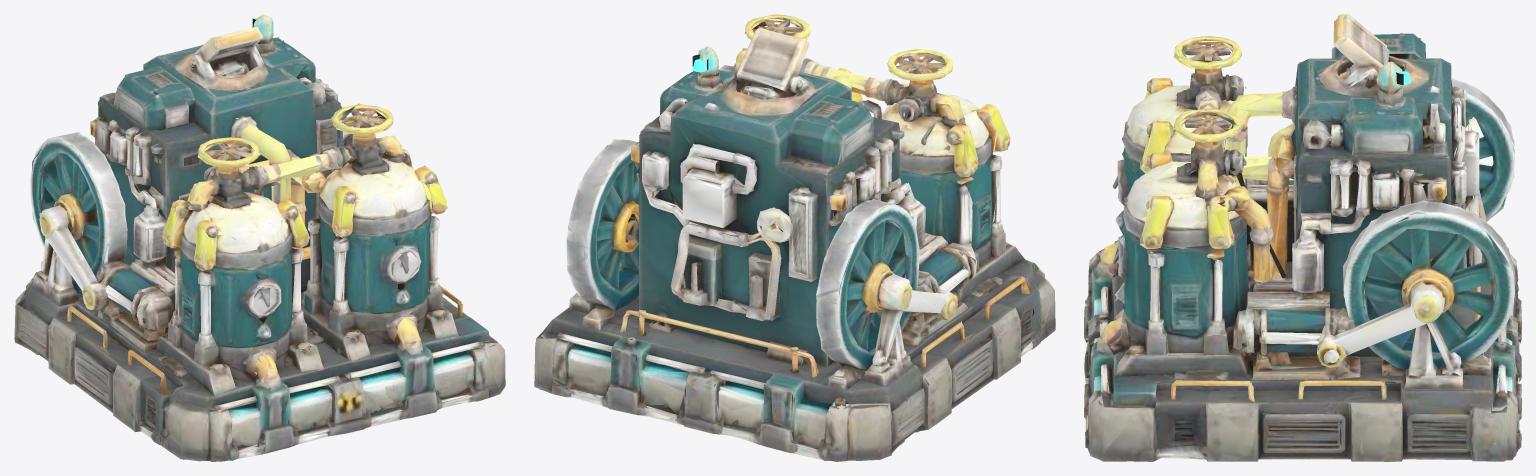
Rendered from plant.glb.
3 views of the same model, side by side, from view 1: azimuth 30°, elevation 25°; view 2: azimuth 150°, elevation 25°; view 3: azimuth 270°, elevation 25° (orthographic). The views are drawn at different scales.
Visible parts, largest first — view 1: SM_Body, SM_LOD, SM_Flywheel_Left, SM_Valve_Left, SM_Valve_Right, SM_Gauge_Left, SM_Gauge_Right, SM_Relief_Flap; view 2: SM_Body, SM_LOD, SM_Flywheel_Left, SM_Flywheel_Right, SM_Valve_Left, SM_Relief_Flap, SM_Valve_Right; view 3: SM_Body, SM_LOD, SM_Flywheel_Right, SM_Flywheel_Left, SM_Valve_Left, SM_Valve_Right, SM_Piston, SM_Relief_Flap.
Part boxes in pixels (left/top/right/bottom): SM_Body: left=14, top=15, right=504, bottom=461; SM_LOD: left=14, top=14, right=505, bottom=460; SM_Flywheel_Left: left=30, top=135, right=135, bottom=311; SM_Valve_Left: left=198, top=137, right=258, bottom=167; SM_Valve_Right: left=332, top=105, right=393, bottom=134; SM_Gauge_Left: left=242, top=268, right=281, bottom=316; SM_Gauge_Right: left=383, top=236, right=420, bottom=281; SM_Relief_Flap: left=194, top=26, right=259, bottom=65; SM_Body: left=534, top=41, right=1055, bottom=461; SM_LOD: left=534, top=14, right=1055, bottom=460; SM_Flywheel_Left: left=816, top=185, right=921, bottom=384; SM_Flywheel_Right: left=567, top=140, right=639, bottom=325; SM_Valve_Left: left=887, top=49, right=952, bottom=81; SM_Relief_Flap: left=737, top=27, right=809, bottom=85; SM_Valve_Right: left=745, top=14, right=810, bottom=39; SM_Body: left=1084, top=18, right=1521, bottom=461; SM_LOD: left=1084, top=14, right=1521, bottom=461; SM_Flywheel_Right: left=1341, top=200, right=1513, bottom=373; SM_Flywheel_Left: left=1458, top=81, right=1513, bottom=221; SM_Valve_Left: left=1174, top=36, right=1241, bottom=69; SM_Valve_Right: left=1173, top=108, right=1241, bottom=142; SM_Piston: left=1290, top=321, right=1358, bottom=367; SM_Relief_Flap: left=1336, top=14, right=1387, bottom=73.
Bounding box in the file's own units: 0.9573 × 0.8837 × 0.9993.
Materials: 4 (2 with a texture image).
